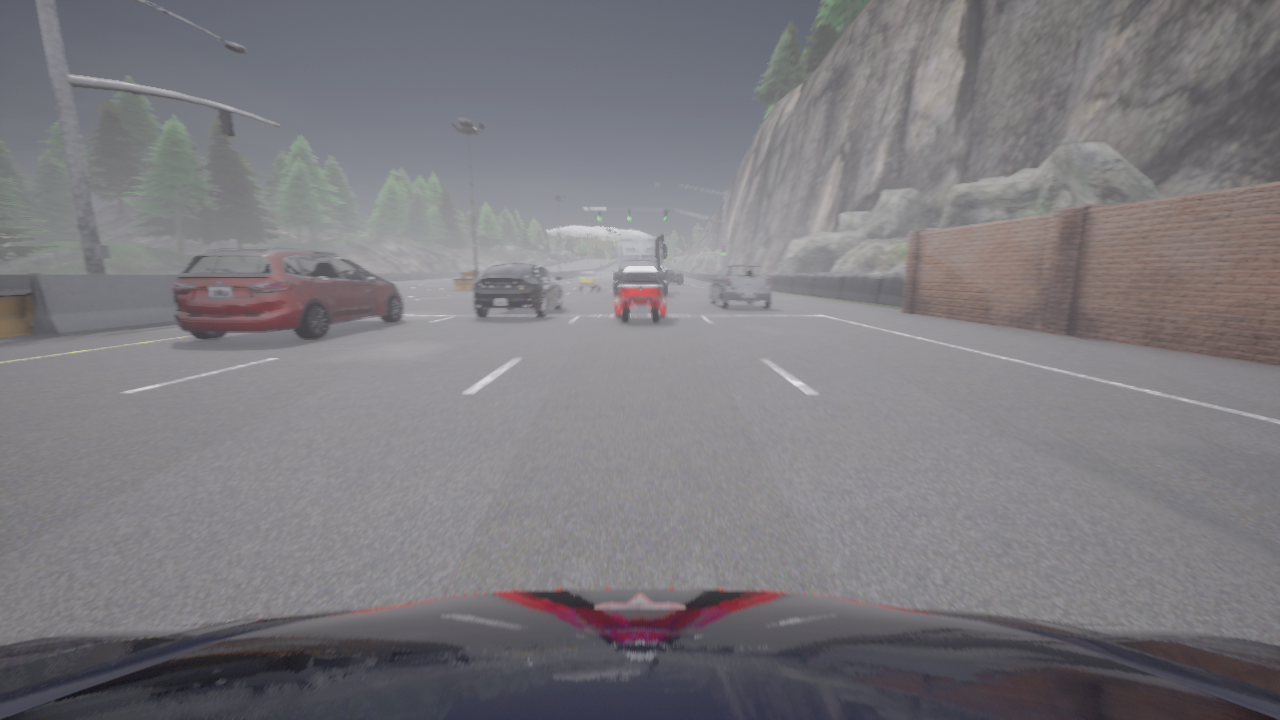cyclist: (0, 588, 1279, 719), (173, 248, 402, 339), (472, 262, 562, 317), (614, 235, 667, 296), (613, 267, 667, 323), (709, 264, 771, 308), (578, 271, 599, 291), (667, 270, 682, 283)
